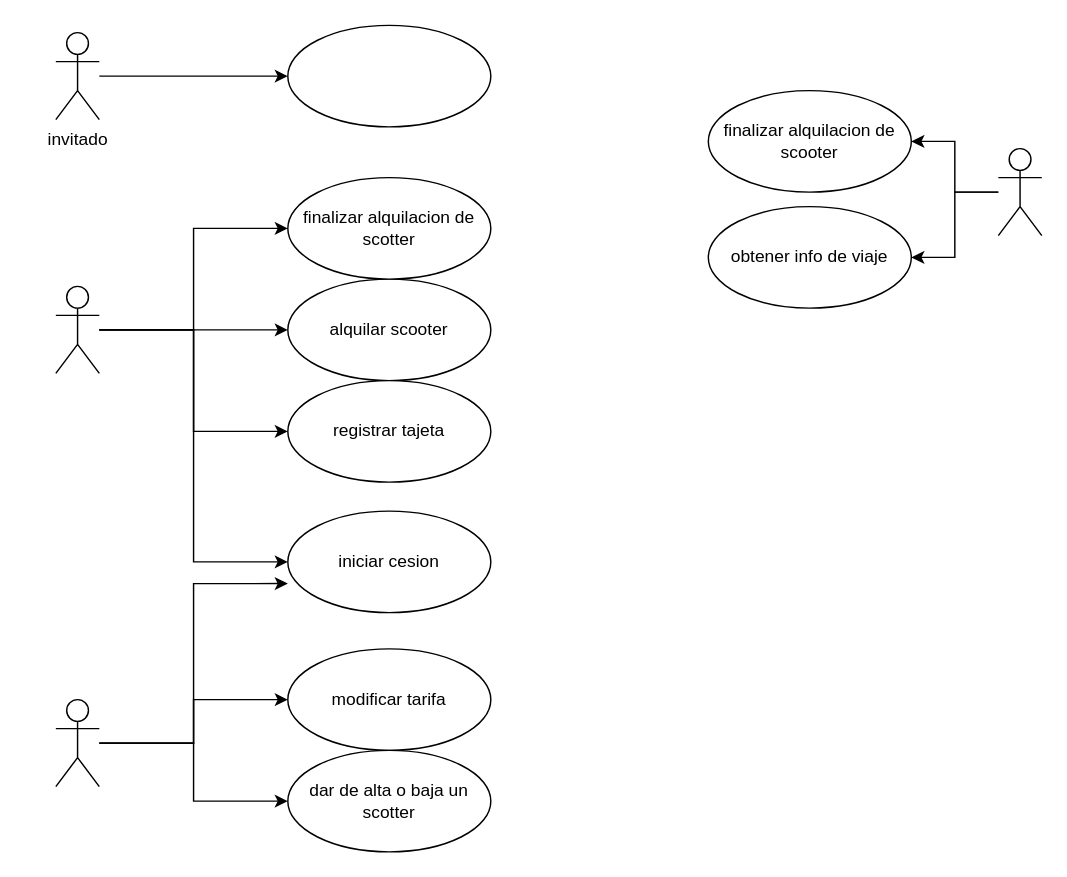
This 1067x877 diagram has some shape labels left out. The shapes that lost their labels are listed below. From the top down, each one's centre as x and y in pixels, then its label:
At (x=388, y=75): "registrase".
At (x=1019, y=191): "timer".
At (x=76, y=329): "cliente".
At (x=76, y=742): "administrador".
